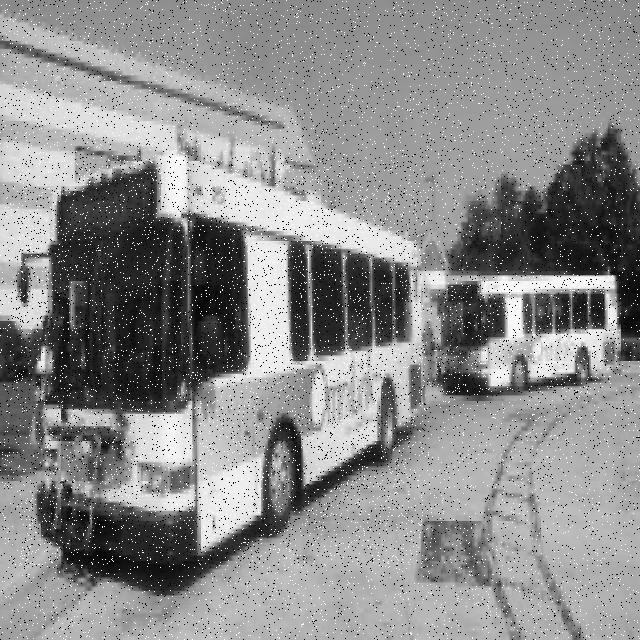Bus: (17, 156, 426, 568), (436, 275, 621, 393)
